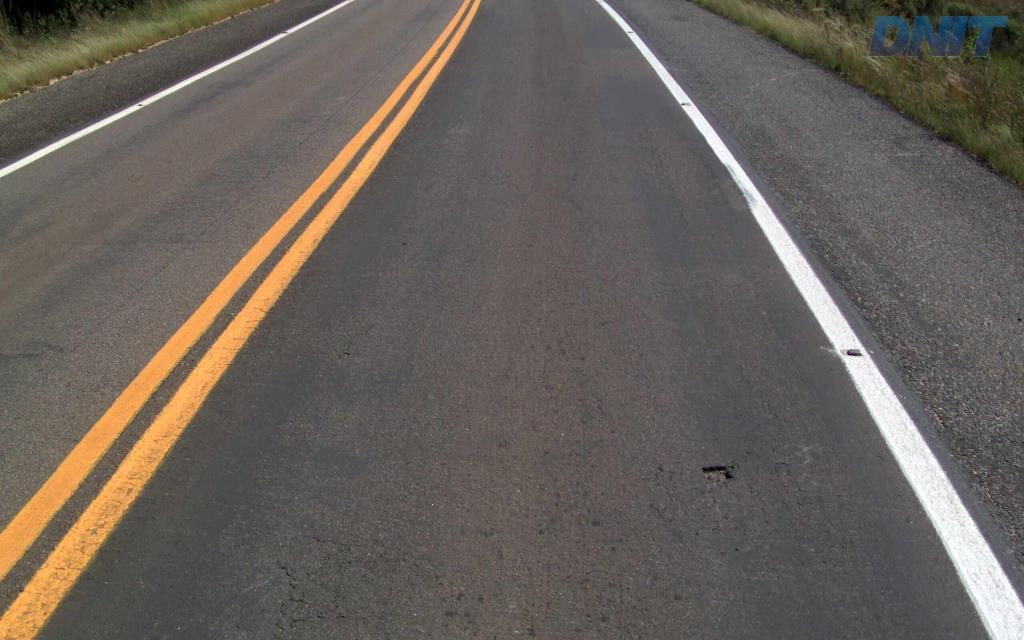pothole: (694, 458, 740, 488)
